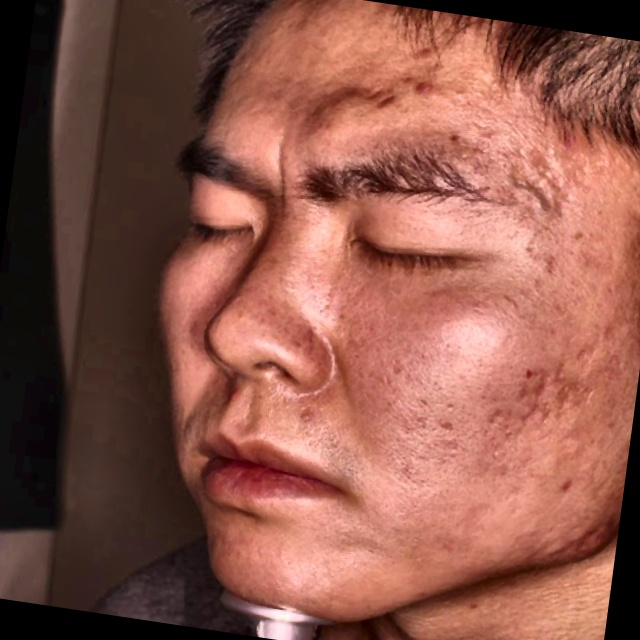comedone: (219, 378, 253, 411), (410, 74, 442, 105), (411, 38, 439, 63), (557, 472, 579, 503)
